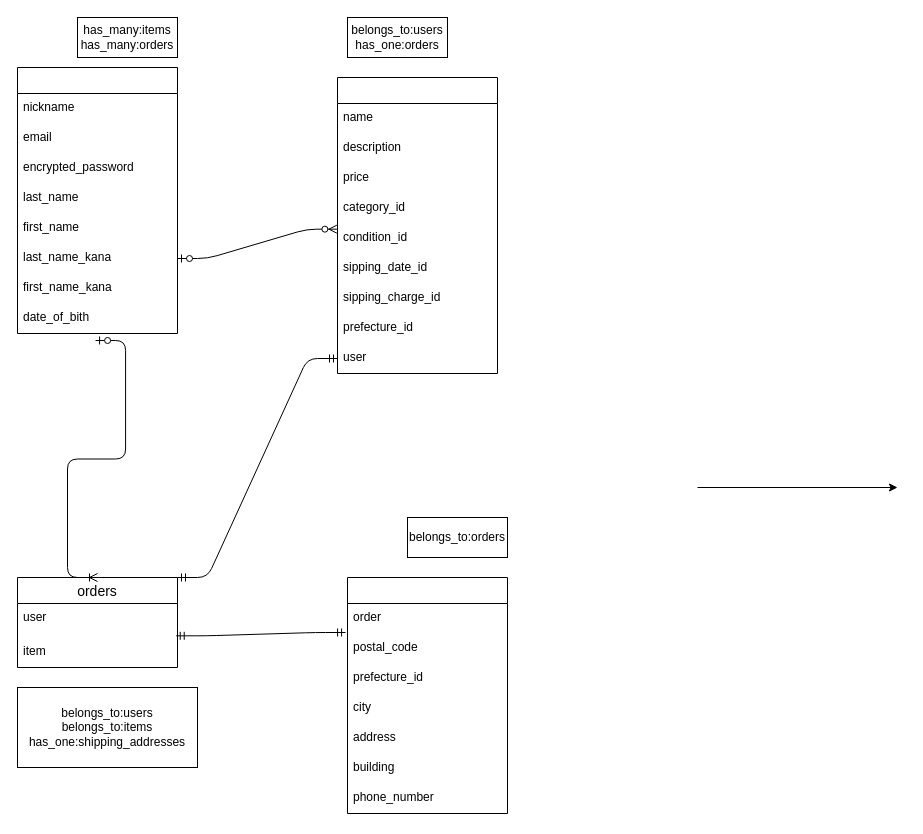
The diagram is 923 pixels wide and 834 high, and some of its shapes have lost their labels. Here are the shapes that lost their labels. From the top down, the box of each, then its label:
(16, 66, 178, 334): users
(336, 76, 498, 374): items
(346, 576, 508, 814): shipping_addresses
